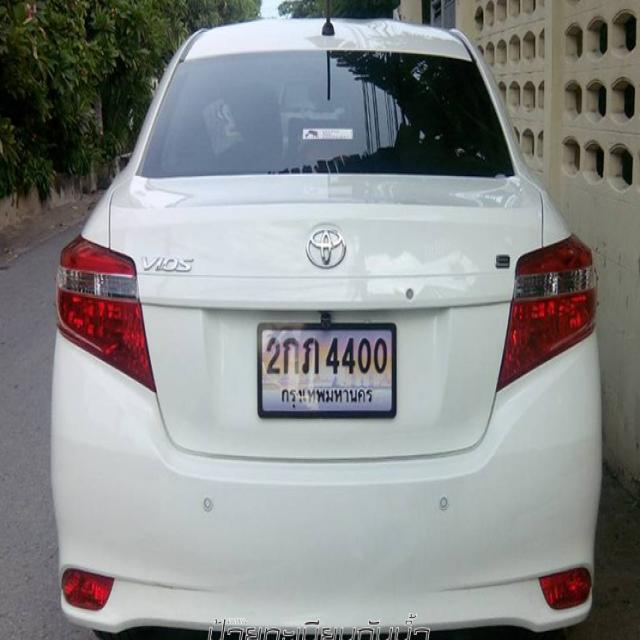license_plate: (257, 320, 398, 420)
